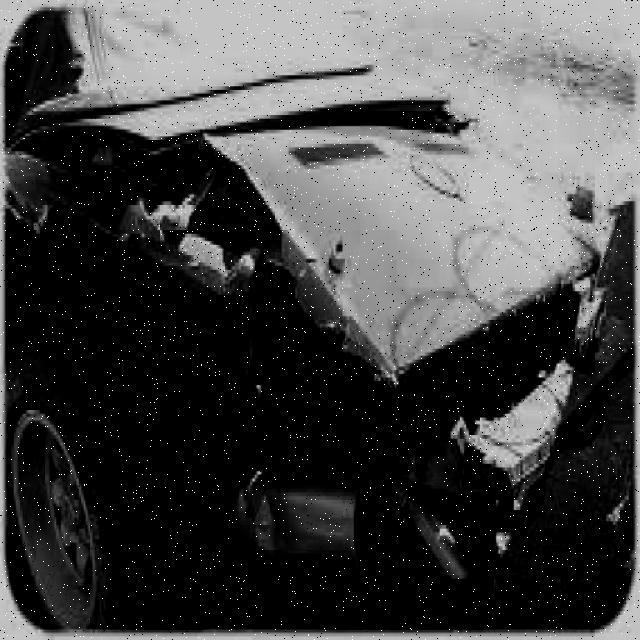car damage: (7, 55, 598, 534)
